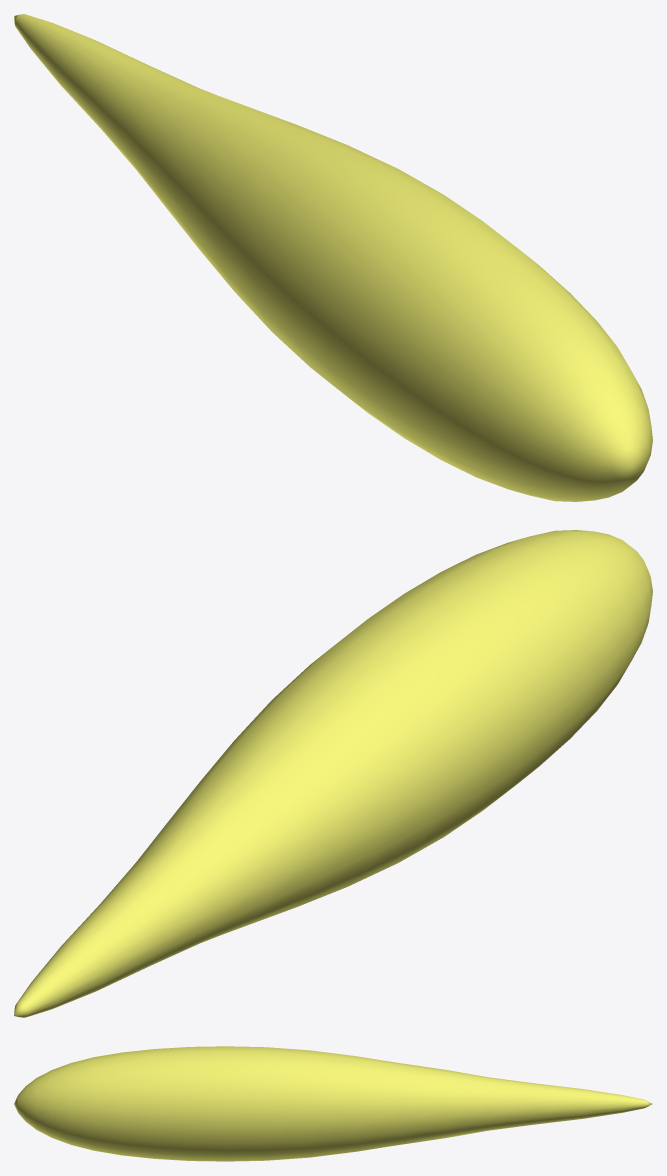
The model's file is bul.obj.
The picture shows the model from 3 angles, top to bottom: view 1: azimuth 30°, elevation 25°; view 2: azimuth 150°, elevation 25°; view 3: azimuth 270°, elevation 25°; orthographic projection. The views are drawn at different scales.
Parts seen in each view (by area): view 1: bul:Drop; view 2: bul:Drop; view 3: bul:Drop.
Part boxes in pixels (x1,y1,x2,y2): bul:Drop: (14,14,652,501); bul:Drop: (14,530,652,1017); bul:Drop: (14,1046,652,1161).
Bounding box in the file's own units: 0.5861 × 0.5861 × 3.22.
1 material, 1 textured.
